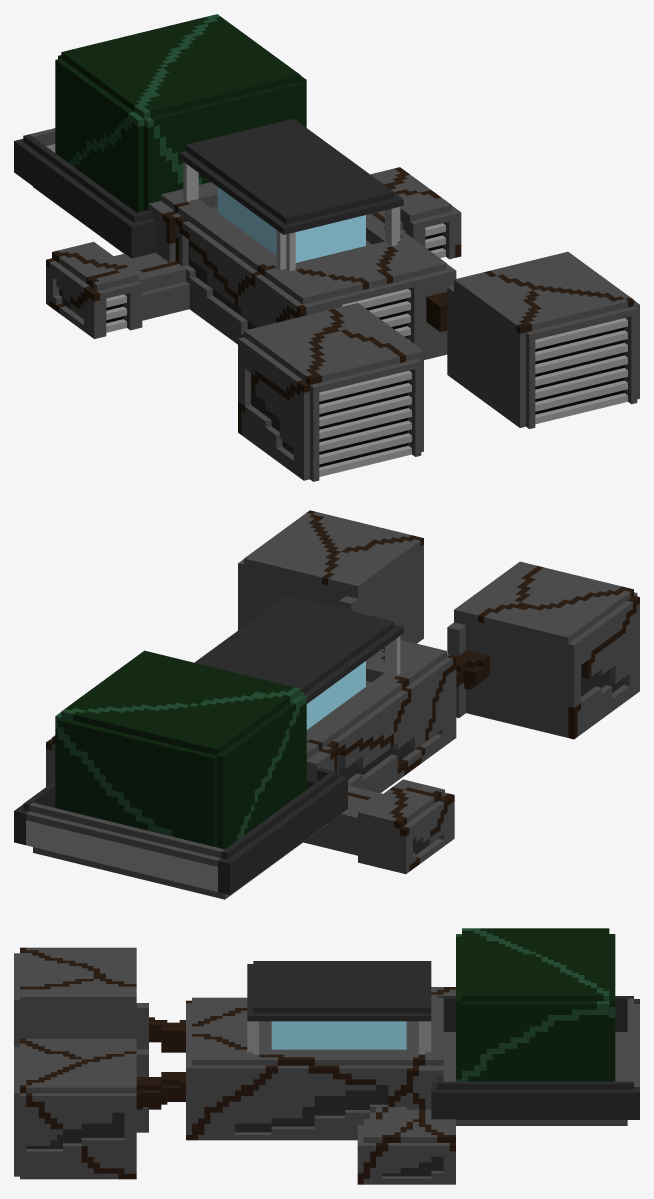
The model's file is JunlgeTruck.obj.
3 renders of one model, top to bottom at view 1: azimuth 30°, elevation 25°; view 2: azimuth 150°, elevation 25°; view 3: azimuth 270°, elevation 25°, orthographic. The views are drawn at different scales.
Bounding box in the file's own units: 6 × 2.6 × 10.2.
1 material, 1 textured.
